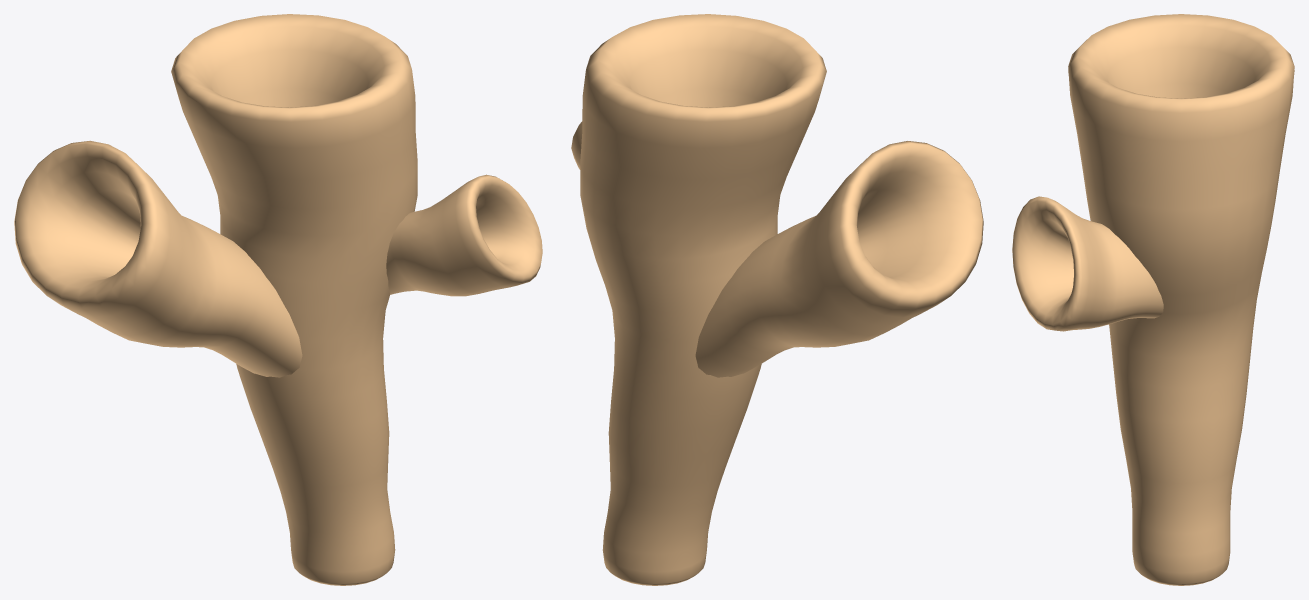
The model's file is Coral_Single.fbx.
The picture shows the model from 3 angles, left to right: view 1: azimuth 30°, elevation 25°; view 2: azimuth 150°, elevation 25°; view 3: azimuth 270°, elevation 25°; orthographic projection. The views are drawn at different scales.
Parts seen in each view (by area): view 1: Coral; view 2: Coral; view 3: Coral.
Boxes of the visible parts, left/top/right/bottom form: Coral: left=14, top=14, right=542, bottom=585; Coral: left=571, top=14, right=983, bottom=585; Coral: left=1012, top=14, right=1294, bottom=585.
Size of the model in its own units: 0.7887 by 0.896 by 0.4702.
